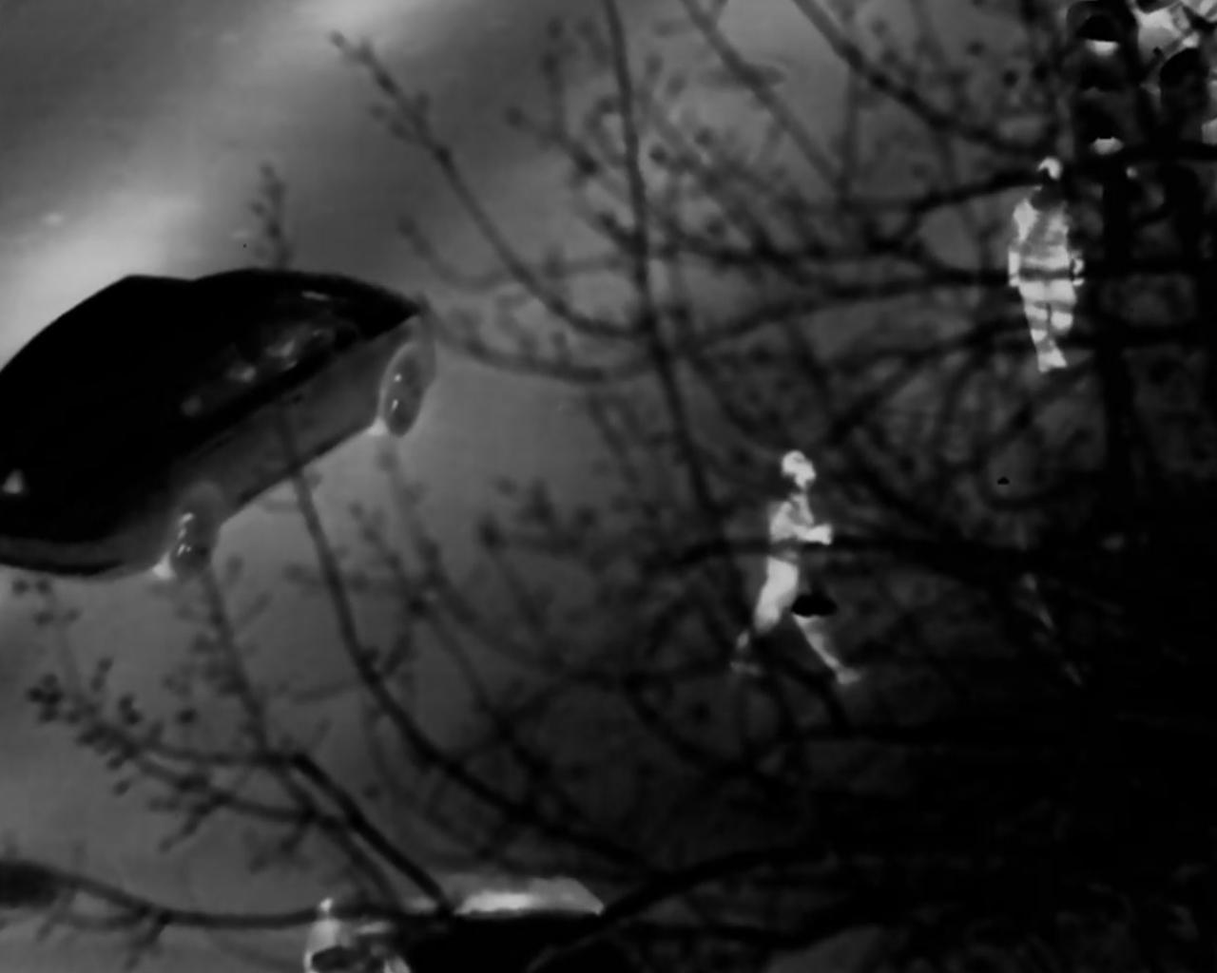person: (742, 452, 863, 670), (1001, 160, 1094, 374)
